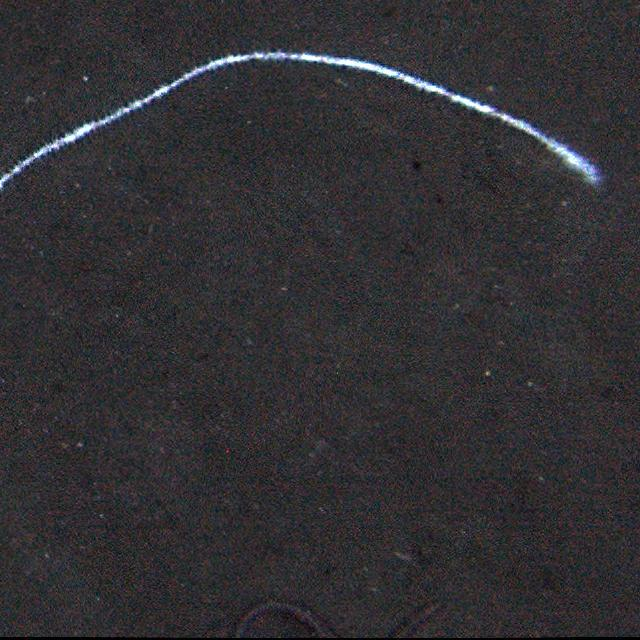eel: (231, 590, 445, 638)
